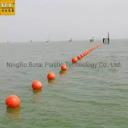red: (6, 95, 20, 108), (31, 80, 42, 89), (47, 72, 55, 80), (61, 65, 68, 70), (72, 57, 76, 63), (80, 54, 84, 58), (82, 52, 86, 56), (78, 56, 82, 59), (86, 51, 89, 54), (89, 49, 91, 51), (92, 48, 94, 49)
